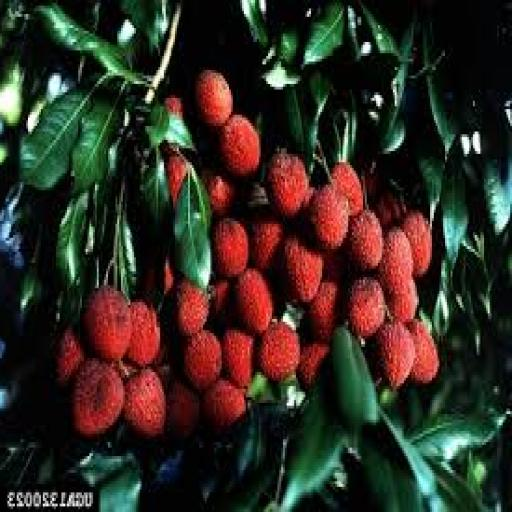lychee: (70, 359, 123, 436), (83, 286, 131, 360), (122, 370, 164, 439), (266, 152, 308, 218), (281, 236, 322, 302), (374, 322, 414, 388), (309, 185, 349, 249), (219, 115, 259, 176), (234, 269, 272, 332), (201, 378, 244, 433), (258, 322, 298, 380), (346, 277, 384, 338), (377, 227, 412, 293), (346, 210, 382, 271), (184, 331, 220, 391), (195, 70, 231, 128), (126, 303, 159, 366), (249, 210, 283, 271), (212, 219, 248, 276), (165, 381, 200, 439), (407, 319, 438, 383), (307, 280, 339, 341), (402, 210, 430, 276), (221, 331, 252, 388), (175, 280, 207, 335), (55, 328, 84, 386), (331, 163, 362, 215), (202, 171, 235, 218), (297, 342, 328, 388), (385, 280, 417, 321), (165, 152, 187, 207), (374, 191, 404, 229), (210, 280, 231, 324), (322, 250, 347, 282), (163, 96, 183, 117)
